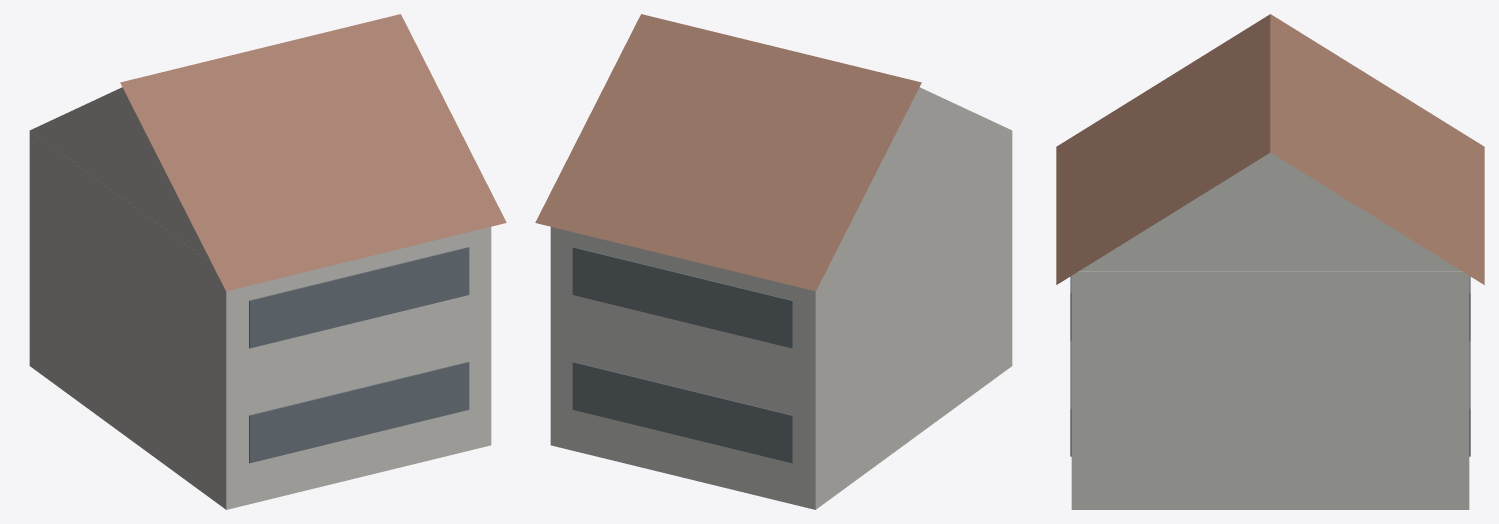
File: cove-house-white.coast-v2.lod2.glb
The picture shows the model from 3 angles, left to right: view 1: azimuth 30°, elevation 25°; view 2: azimuth 150°, elevation 25°; view 3: azimuth 270°, elevation 25°; orthographic projection.
Parts seen in each view (by area): view 1: cove-house-white; view 2: cove-house-white; view 3: cove-house-white.
Part boxes in pixels (x1,y1,x2,y2): cove-house-white: (29,14,506,509); cove-house-white: (535,14,1012,509); cove-house-white: (1056,14,1484,509).
Bounding box in the file's own units: 7.42 × 9.03 × 9.7.
